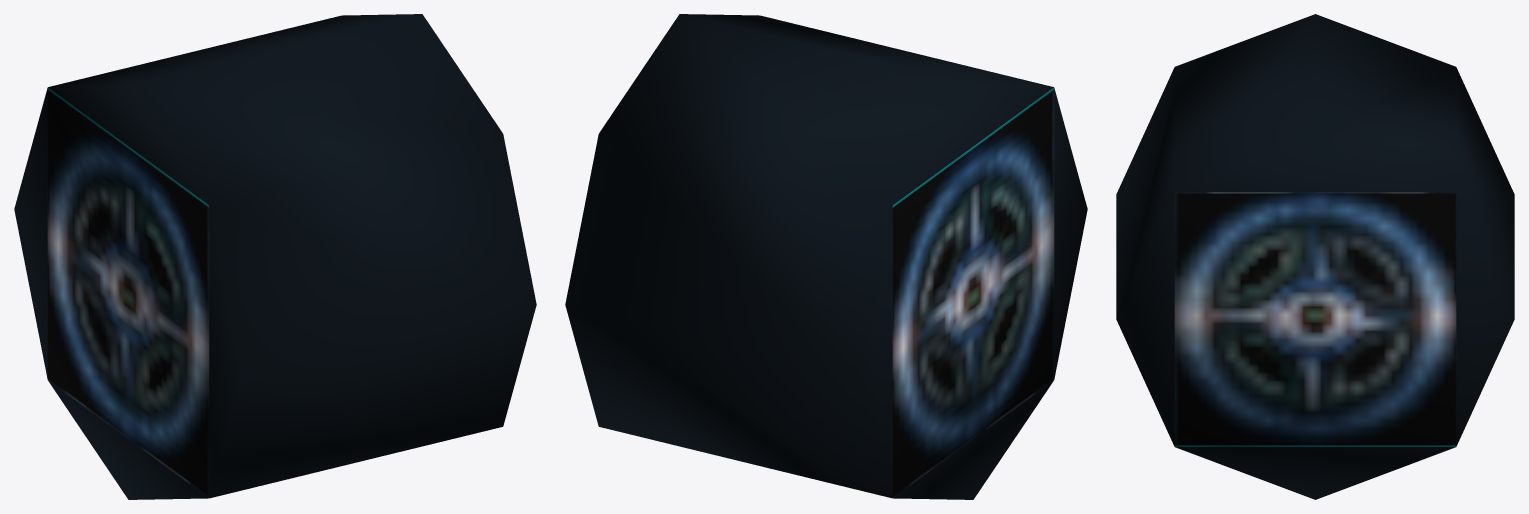
File: WheelRearR.obj
3 renders of one model, left to right at view 1: azimuth 30°, elevation 25°; view 2: azimuth 150°, elevation 25°; view 3: azimuth 270°, elevation 25°, orthographic. The views are drawn at different scales.
Visible parts, largest first — view 1: WheelRearR; view 2: WheelRearR; view 3: WheelRearR.
Boxes of the visible parts, <box> form: WheelRearR: <box>14,14,536,499</box>; WheelRearR: <box>565,14,1087,499</box>; WheelRearR: <box>1116,14,1514,499</box>.
Bounding box in the file's own units: 0.9162 × 1.23 × 1.23.
Materials: 2 (1 with a texture image).
